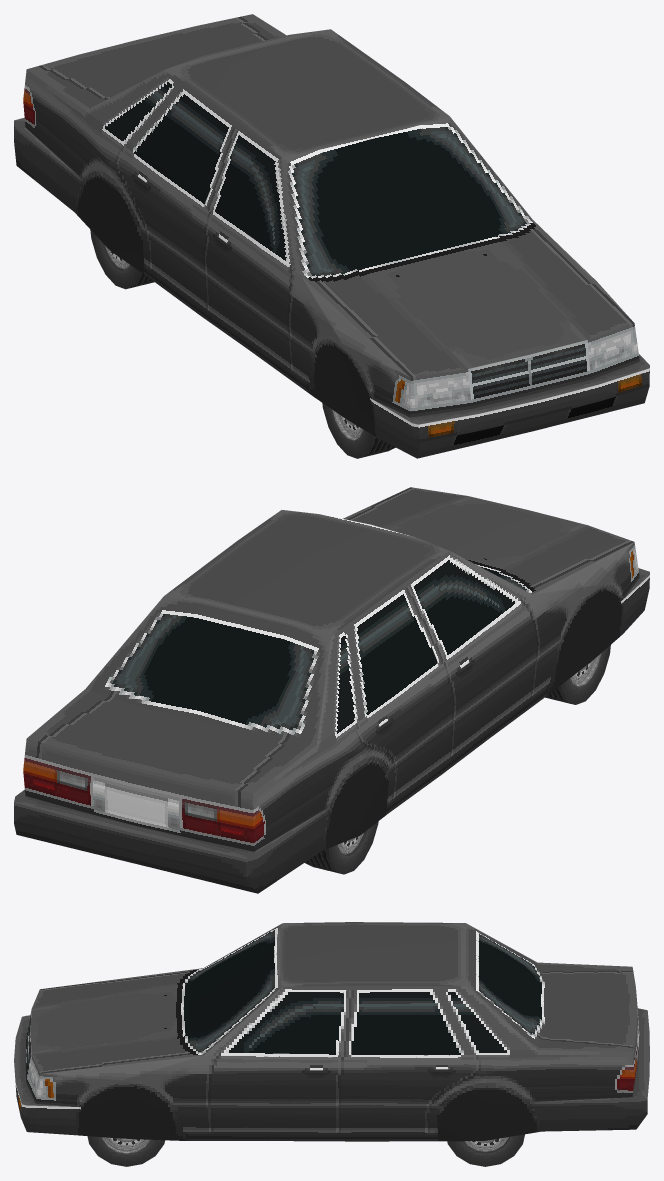
Rendered from low_poly_berlina.glb.
The picture shows the model from 3 angles, top to bottom: view 1: azimuth 30°, elevation 25°; view 2: azimuth 150°, elevation 25°; view 3: azimuth 270°, elevation 25°; orthographic projection. The views are drawn at different scales.
Visible parts, largest first — view 1: Cube_0, Cylinder_1; view 2: Cube_0, Cylinder_1; view 3: Cube_0, Cylinder_1.
Boxes of the visible parts, x1=… form: Cube_0: x1=14, y1=14, x2=649, y2=458; Cylinder_1: x1=90, y1=230, x2=395, y2=458; Cube_0: x1=14, y1=487, x2=649, y2=893; Cylinder_1: x1=304, y1=645, x2=610, y2=874; Cube_0: x1=14, y1=922, x2=649, y2=1141; Cylinder_1: x1=87, y1=1134, x2=524, y2=1166.
Size of the model in its own units: 1.02 by 0.8487 by 2.85.
1 material, 1 textured.
